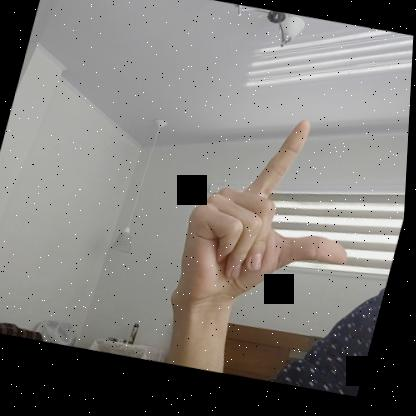L: (171, 100, 386, 335)
